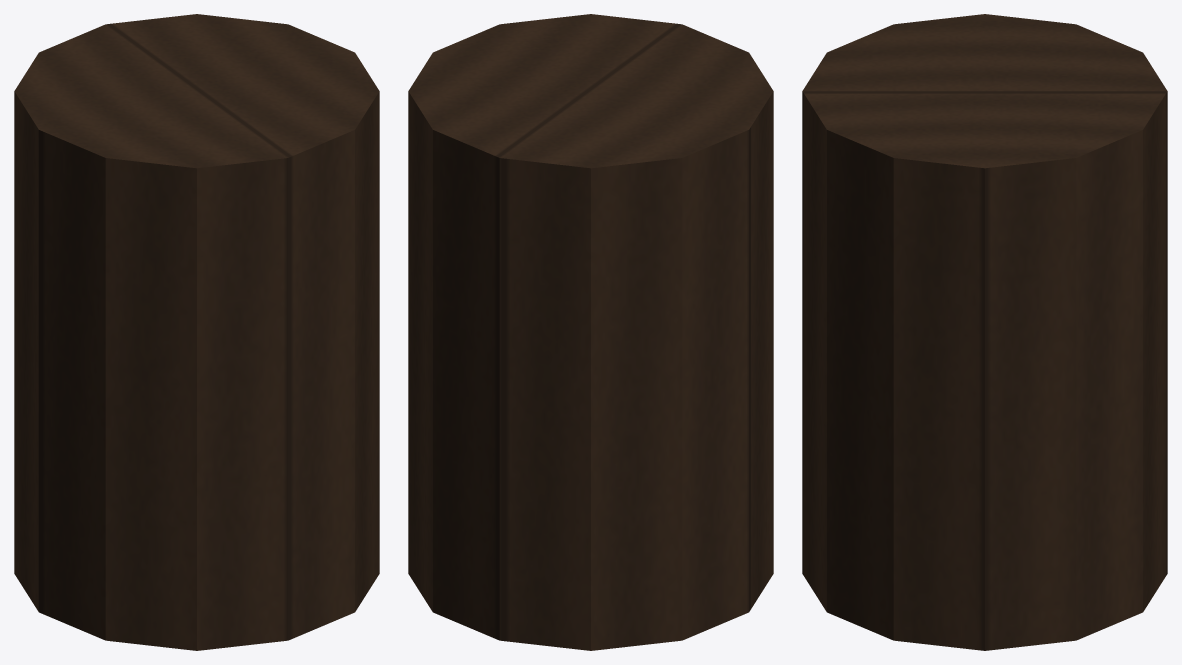
The model's file is barrel.glb.
The picture shows the model from 3 angles, left to right: view 1: azimuth 30°, elevation 25°; view 2: azimuth 150°, elevation 25°; view 3: azimuth 270°, elevation 25°; orthographic projection.
Parts seen in each view (by area): view 1: ASSET_barrel; view 2: ASSET_barrel; view 3: ASSET_barrel.
Part boxes in pixels (left/top/right/bottom): ASSET_barrel: left=14, top=14, right=379, bottom=650; ASSET_barrel: left=408, top=14, right=773, bottom=650; ASSET_barrel: left=802, top=14, right=1167, bottom=650.
Bounding box in the file's own units: 0.96 × 1.4 × 0.96.
Materials: 1 (1 with a texture image).
